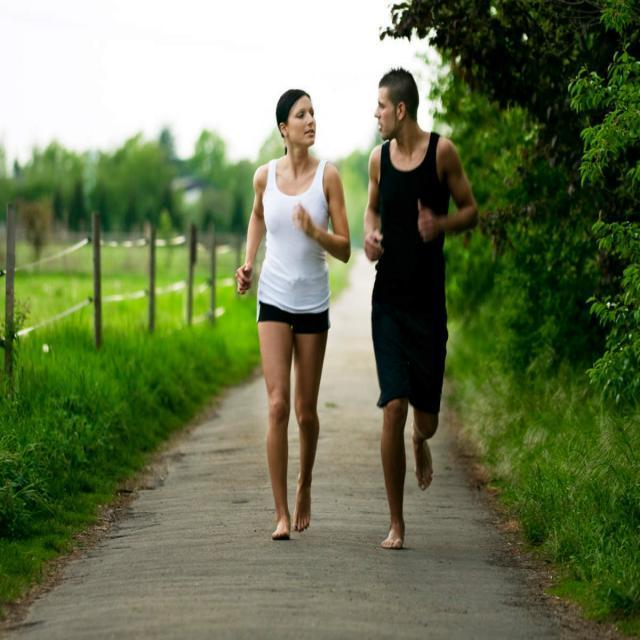No_BreathingApparatus: (365, 110, 404, 142), (294, 114, 325, 144)
No_Glove: (225, 262, 262, 298), (360, 223, 386, 269)
No_Helmet: (370, 60, 423, 100), (272, 87, 314, 117)
No_Shoe: (416, 440, 438, 492), (382, 521, 408, 554), (270, 516, 292, 544), (294, 505, 313, 535)
